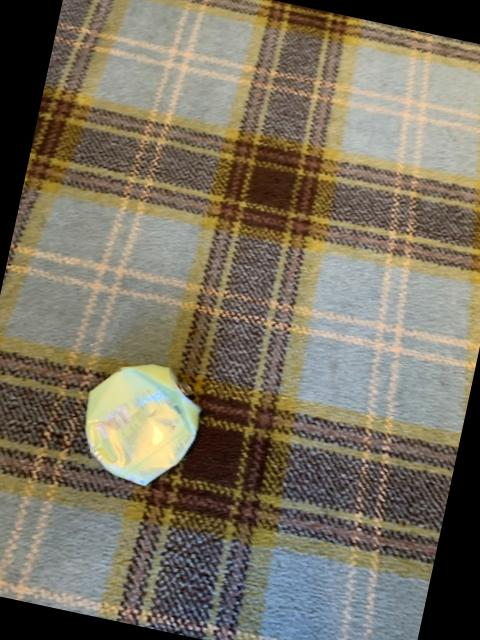metal: (84, 366, 199, 486)
